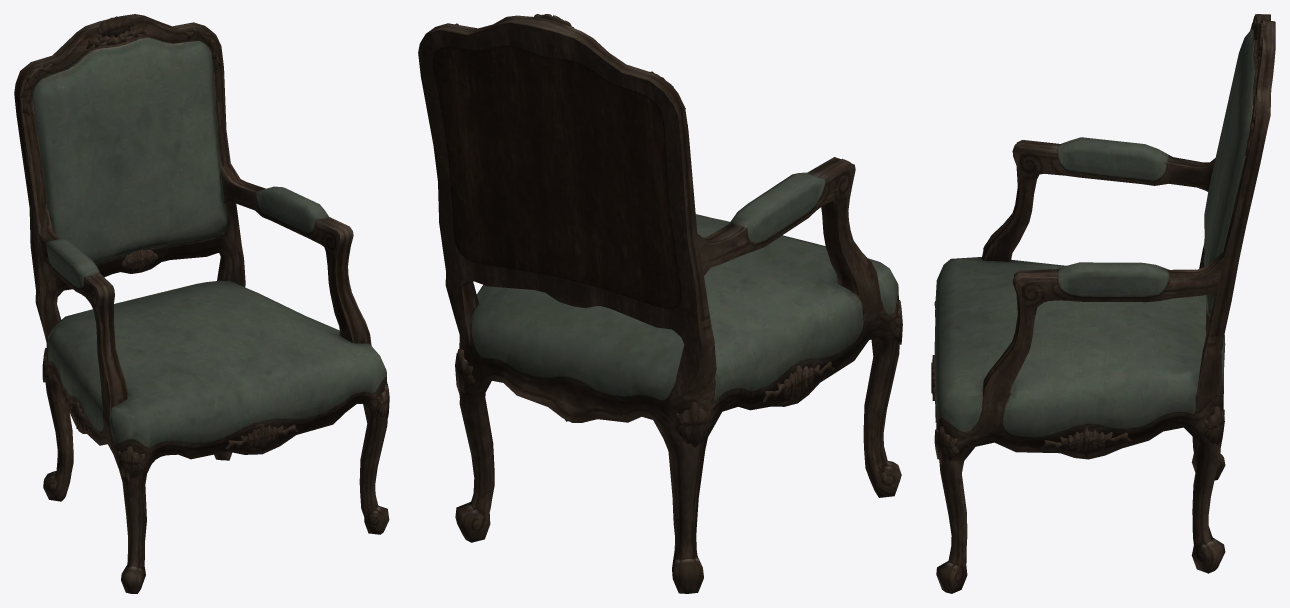
Rendered from GreenChair_01.glb.
3 views of the same model, side by side, from view 1: azimuth 30°, elevation 25°; view 2: azimuth 150°, elevation 25°; view 3: azimuth 270°, elevation 25° (orthographic). The views are drawn at different scales.
Parts seen in each view (by area): view 1: GreenChair_01; view 2: GreenChair_01; view 3: GreenChair_01.
Boxes of the visible parts, left/top/right/bottom form: GreenChair_01: left=14, top=14, right=389, bottom=593; GreenChair_01: left=418, top=14, right=902, bottom=593; GreenChair_01: left=931, top=14, right=1275, bottom=593.
Size of the model in its own units: 0.6731 by 1.06 by 0.6644.
Materials: 1 (1 with a texture image).
